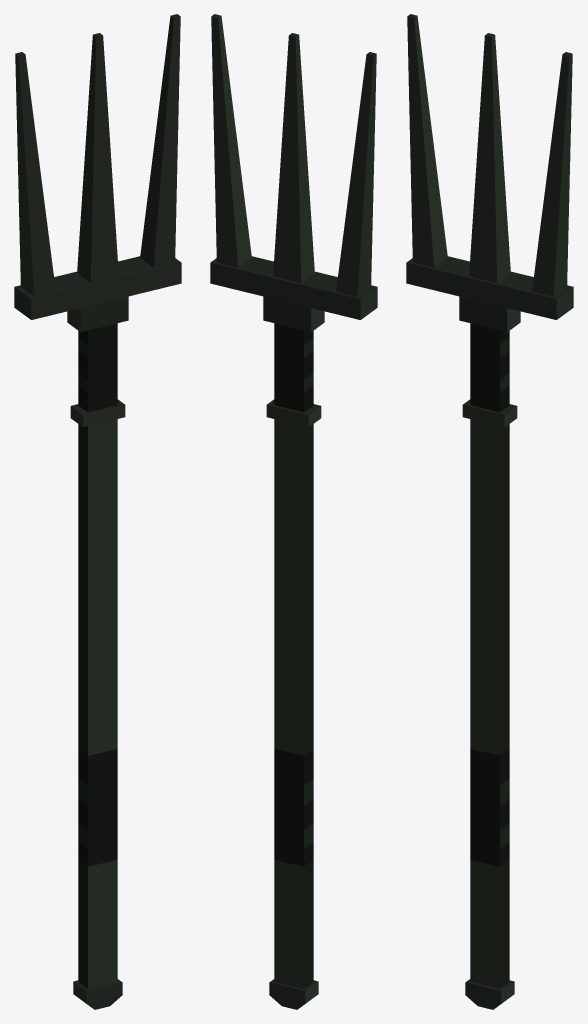
The model's file is SF_Wep_Pitchfork_01.glb.
3 renders of one model, left to right at view 1: azimuth 30°, elevation 25°; view 2: azimuth 150°, elevation 25°; view 3: azimuth 330°, elevation 25°, orthographic.
Parts seen in each view (by area): view 1: SF_Wep_Pitchfork_01; view 2: SF_Wep_Pitchfork_01; view 3: SF_Wep_Pitchfork_01.
Boxes of the visible parts, bbox=[...] form: SF_Wep_Pitchfork_01: bbox=[14, 14, 181, 1009]; SF_Wep_Pitchfork_01: bbox=[210, 14, 377, 1009]; SF_Wep_Pitchfork_01: bbox=[406, 14, 573, 1009].
Bounding box in the file's own units: 0.00682 × 0.039 × 0.00124.
Materials: 1 (1 with a texture image).
